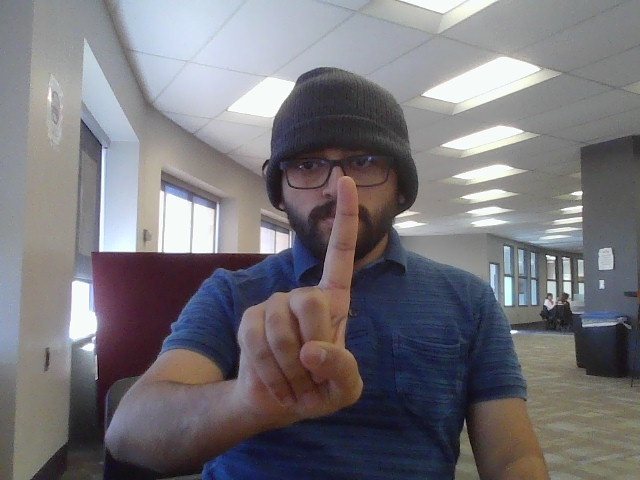one: (223, 171, 385, 430)
